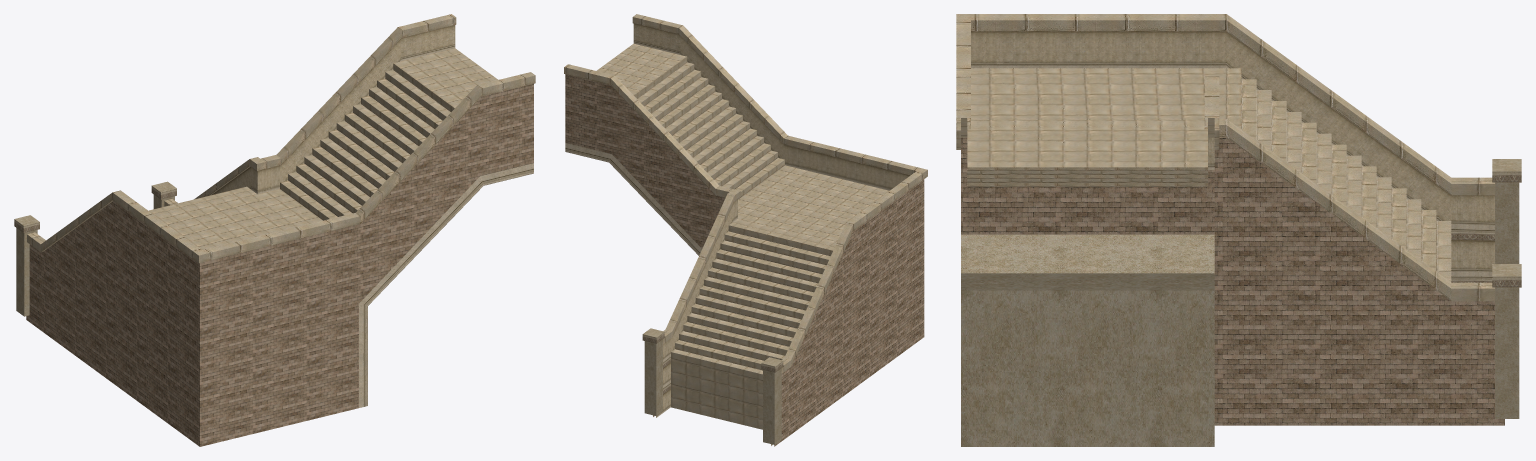
File: thm_nboo_imprv_bridge_stairs_s03_l0.fbx
The picture shows the model from 3 angles, left to right: view 1: azimuth 30°, elevation 25°; view 2: azimuth 150°, elevation 25°; view 3: azimuth 270°, elevation 25°; orthographic projection. The views are drawn at different scales.
Visible parts, largest first — view 1: mesh_node; view 2: mesh_node; view 3: mesh_node.
Boxes of the visible parts, box(x1,y1,x2,y2) form: mesh_node: box(14, 14, 535, 446); mesh_node: box(564, 14, 927, 446); mesh_node: box(956, 14, 1521, 446).
Bounding box in the file's own units: 12.64 × 10.32 × 11.6.
4 materials, 4 textured.
